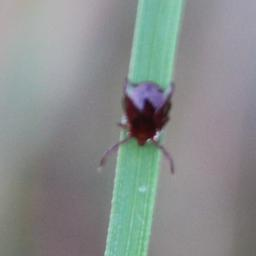Rhipicephalus sanguineus: (95, 79, 183, 175)
